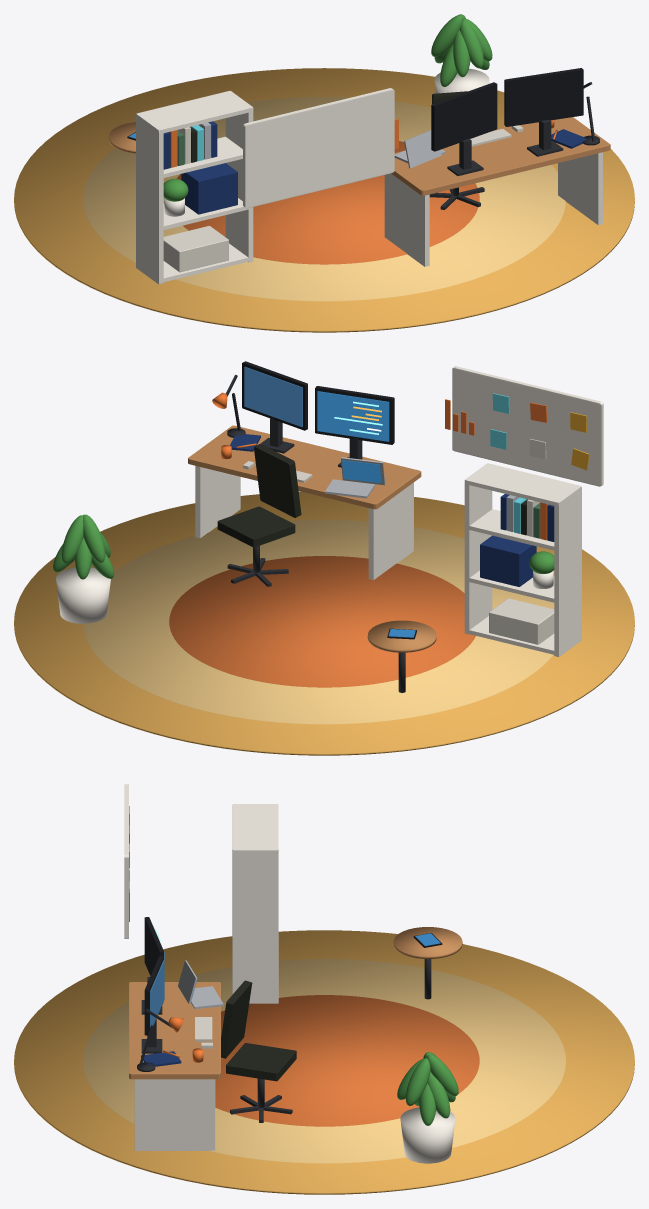
Rendered from room.glb.
3 views of the same model, one above another, from view 1: azimuth 30°, elevation 25°; view 2: azimuth 150°, elevation 25°; view 3: azimuth 270°, elevation 25° (orthographic).
Parts seen in each view (by area): view 1: rug0.001, rug1.001, board, rug2.001, desk_top, shelf_side_l.001, mon1, mon0, desk_leg, shelf_board.007, desk_leg.001, printer (+13 smaller); view 2: rug0.001, rug1.001, rug2.001, board, desk_top, shelf_side_l.001, desk_leg, shelf_side_r.001, mon_screen0, shelf_board.007, pot.001, desk_leg.001 (+15 smaller); view 3: rug0.001, rug1.001, rug2.001, shelf_side_r.001, desk_leg.001, desk_top, pot.001, shelf_board.007, chair_seat, side_table, chair_back, board (+6 smaller).
Boxes of the visible parts, <box> form: rug0.001: <box>14,68,634,332</box>; rug1.001: <box>83,97,565,301</box>; board: <box>243,88,394,208</box>; rug2.001: <box>176,141,479,264</box>; desk_top: <box>391,117,610,195</box>; shelf_side_l.001: <box>136,113,163,284</box>; mon1: <box>504,68,583,126</box>; mon0: <box>431,82,497,151</box>; desk_leg: <box>384,173,429,266</box>; shelf_board.007: <box>136,90,252,133</box>; desk_leg.001: <box>558,152,602,224</box>; printer: <box>163,226,228,272</box>; rug0.001: <box>14,491,634,755</box>; rug1.001: <box>83,520,554,724</box>; rug2.001: <box>169,556,475,687</box>; board: <box>452,366,603,486</box>; desk_top: <box>188,425,421,509</box>; shelf_side_l.001: <box>554,486,581,656</box>; desk_leg: <box>368,482,413,579</box>; shelf_side_r.001: <box>464,463,492,634</box>; mon_screen0: <box>317,391,389,441</box>; shelf_board.007: <box>465,463,581,506</box>; pot.001: <box>56,567,110,623</box>; desk_leg.001: <box>195,466,240,538</box>; rug0.001: <box>14,930,634,1194</box>; rug1.001: <box>83,959,565,1163</box>; rug2.001: <box>215,995,479,1126</box>; shelf_side_r.001: <box>232,849,278,1003</box>; desk_leg.001: <box>134,1079,215,1150</box>; desk_top: <box>129,982,220,1079</box>; pot.001: <box>400,1107,455,1163</box>; shelf_board.007: <box>232,804,278,854</box>; chair_seat: <box>226,1043,296,1081</box>; side_table: <box>393,927,462,959</box>; chair_back: <box>221,980,252,1058</box>; board: <box>124,784,128,938</box>.
Bounding box in the file's own units: 5.4 × 1.85 × 5.4.
